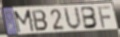2: (50, 9, 66, 32)
B: (80, 6, 99, 30), (31, 10, 50, 33)
F: (97, 5, 112, 29)
M: (13, 9, 37, 35)
U: (63, 6, 84, 32)
